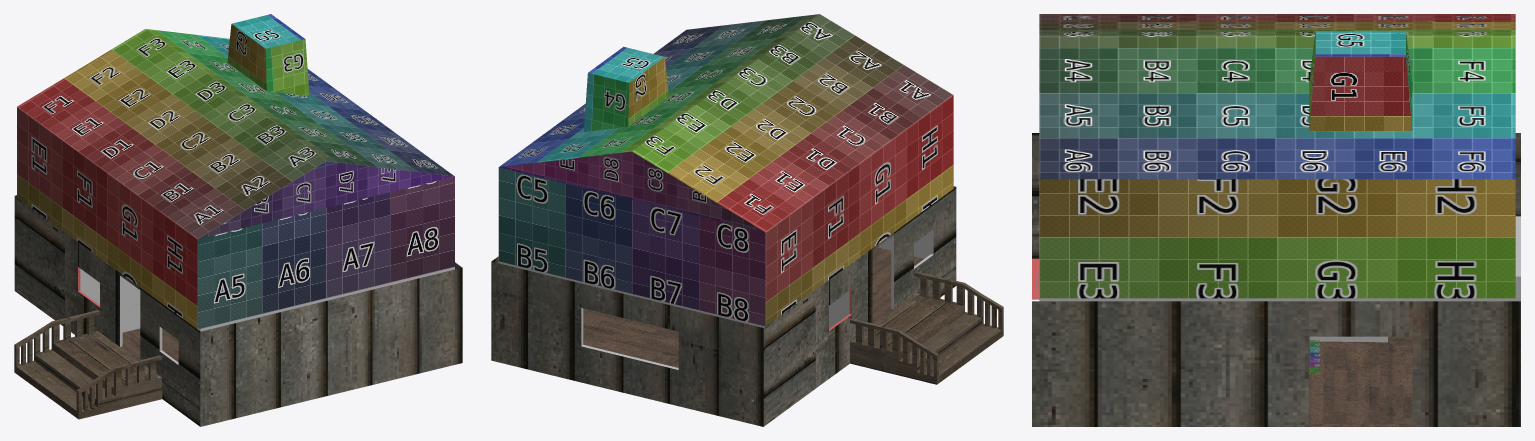
File: house_b.gltf
The picture shows the model from 3 angles, left to right: view 1: azimuth 30°, elevation 25°; view 2: azimuth 150°, elevation 25°; view 3: azimuth 270°, elevation 25°; orthographic projection. The views are drawn at different scales.
Visible parts, largest first — view 1: Roof, GroundFloor-col, 2ndFloor; view 2: Roof, GroundFloor-col, 2ndFloor; view 3: Roof, GroundFloor-col, 2ndFloor.
Boxes of the visible parts, box(x1,y1,x2,y2) form: Roof: box(17, 14, 454, 238); GroundFloor-col: box(14, 195, 462, 426); 2ndFloor: box(17, 107, 454, 329); Roof: box(499, 14, 952, 232); GroundFloor-col: box(491, 186, 1003, 426); 2ndFloor: box(498, 95, 953, 326); Roof: box(1039, 14, 1515, 179); GroundFloor-col: box(1032, 133, 1520, 426); 2ndFloor: box(1039, 179, 1515, 298).
Bounding box in the file's own units: 47.44 × 33.72 × 44.12.
Materials: 10 (9 with a texture image).
